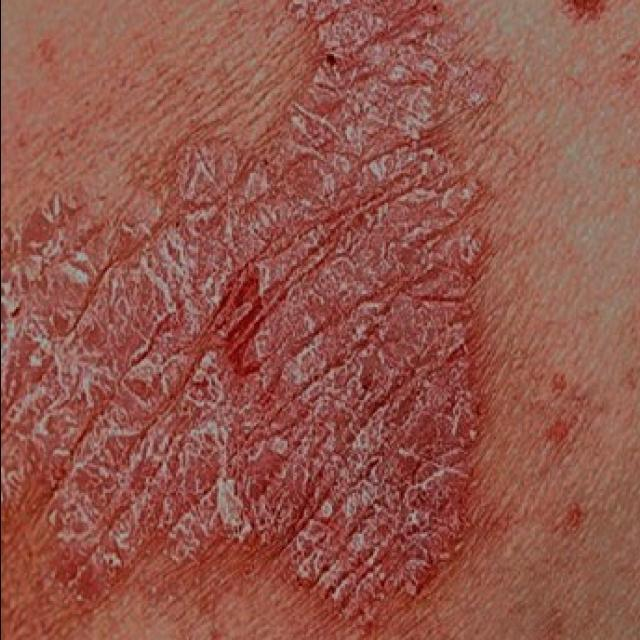Psoriasis: (286, 0, 508, 640), (1, 125, 284, 601), (534, 0, 640, 36)
